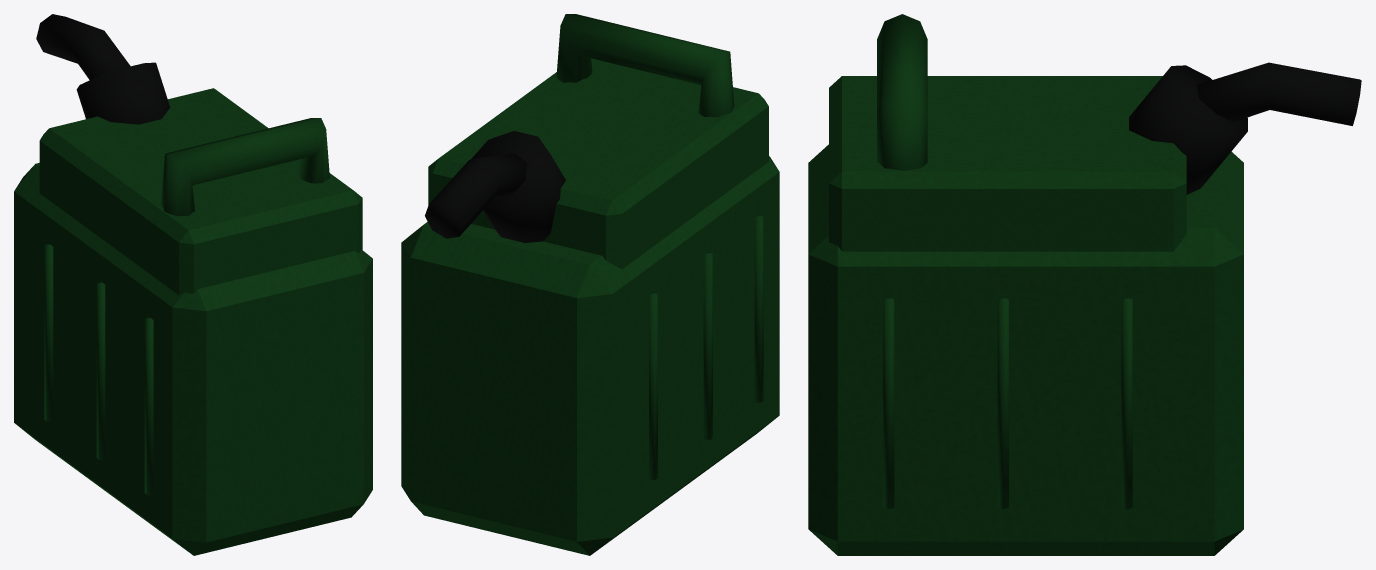
The model's file is MixGasCan.gltf.
3 renders of one model, left to right at view 1: azimuth 30°, elevation 25°; view 2: azimuth 150°, elevation 25°; view 3: azimuth 270°, elevation 25°, orthographic. The views are drawn at different scales.
Parts seen in each view (by area): view 1: MixGasCan__Body; view 2: MixGasCan__Body; view 3: MixGasCan__Body.
Part boxes in pixels (box(x1,y1,x2,y2)): MixGasCan__Body: box(14, 14, 372, 555); MixGasCan__Body: box(401, 14, 779, 555); MixGasCan__Body: box(808, 14, 1361, 555).
Bounding box in the file's own units: 0.1768 × 0.3047 × 0.3378.
1 material, 1 textured.
